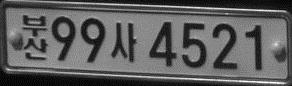1: (241, 24, 269, 70)
2: (210, 22, 238, 70)
4: (148, 20, 177, 66)
5: (181, 21, 207, 69)
9: (79, 15, 105, 63), (50, 15, 76, 60)
부산_V: (21, 13, 49, 62)
사: (110, 21, 137, 62)
